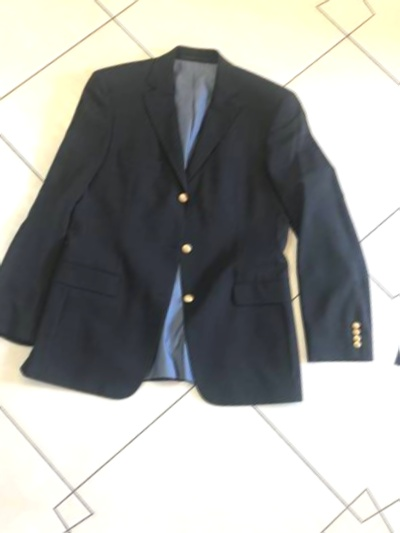Blazer: (0, 8, 400, 443), (394, 67, 400, 502)
